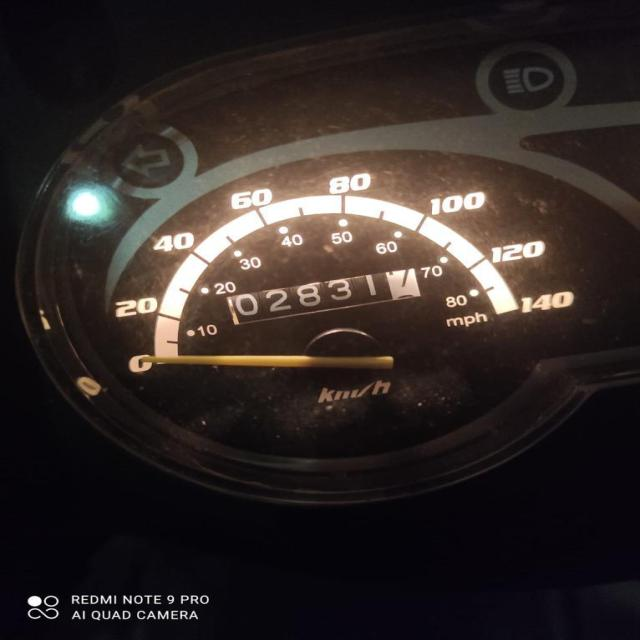odometer: (220, 266, 423, 328)
